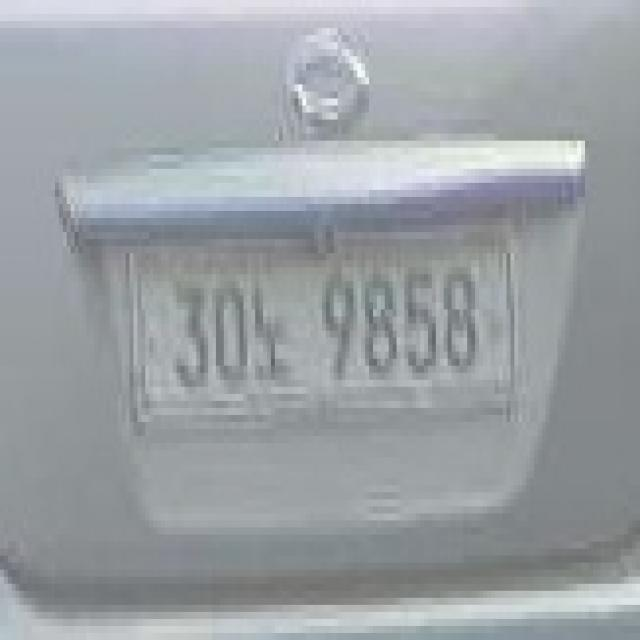0: (212, 274, 247, 387)
3: (177, 281, 208, 394)
5: (404, 267, 440, 380)
8: (365, 267, 401, 387), (444, 267, 479, 387)
9: (322, 267, 357, 387)
license_plate: (130, 225, 518, 429)
no: (251, 281, 291, 387)
